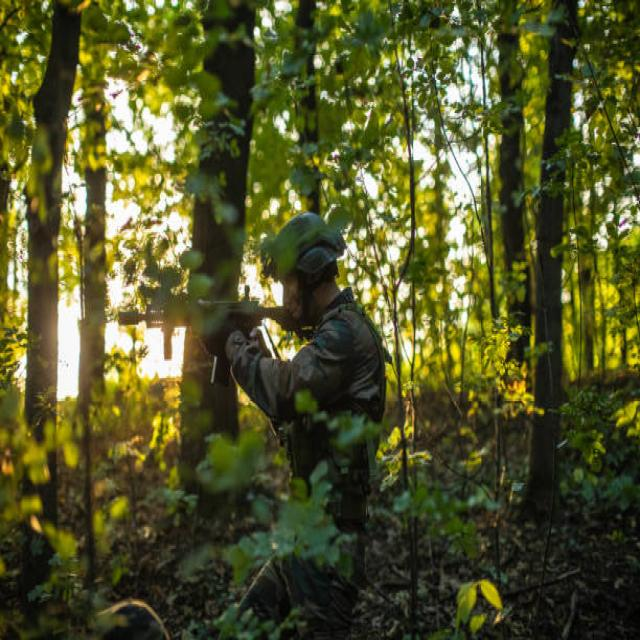soldier: (198, 216, 396, 606)
